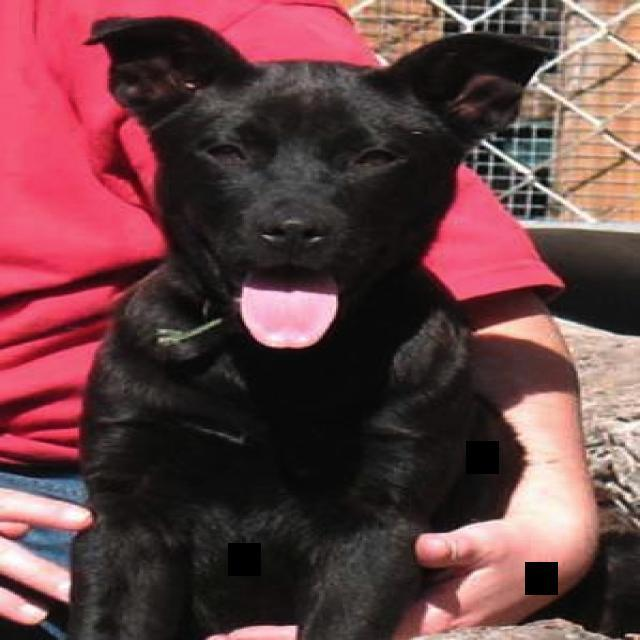adult_dog: (69, 11, 550, 634)
